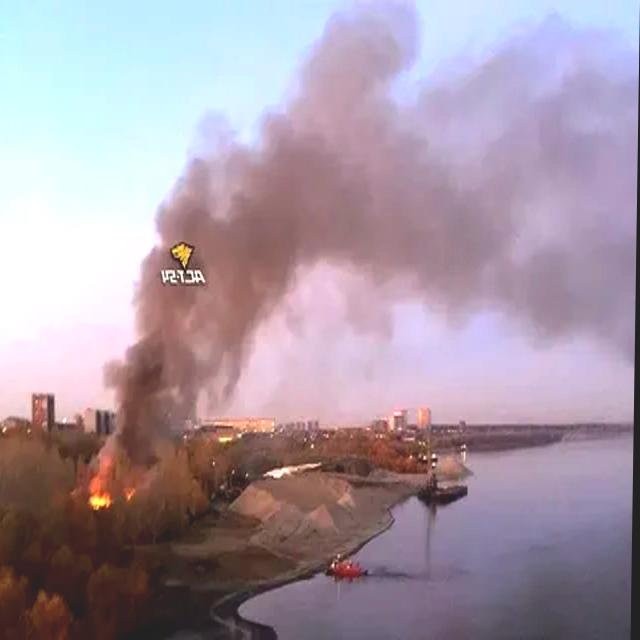Smoke: (85, 3, 418, 504)
